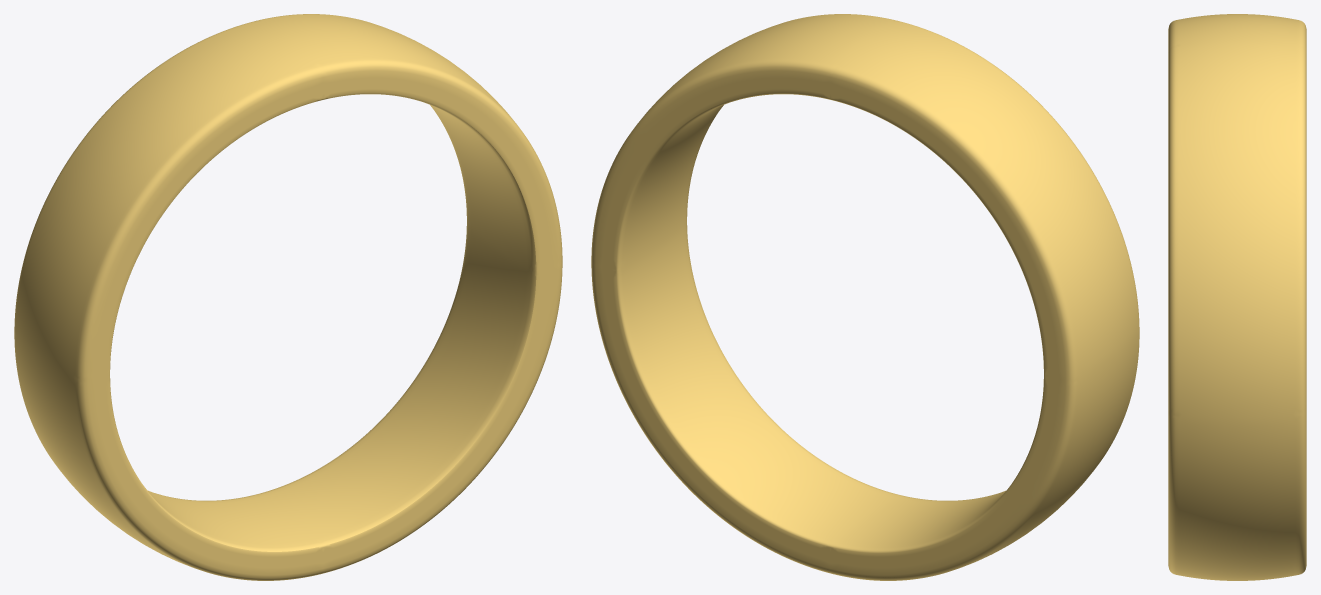
The model's file is ZachNwb_blender.glb.
3 renders of one model, left to right at view 1: azimuth 30°, elevation 25°; view 2: azimuth 150°, elevation 25°; view 3: azimuth 270°, elevation 25°, orthographic.
Parts seen in each view (by area): view 1: mans YG WB FOR 3D model; view 2: mans YG WB FOR 3D model; view 3: mans YG WB FOR 3D model.
Boxes of the visible parts, x1,y1,x2,y2 form: mans YG WB FOR 3D model: (14, 14, 562, 580); mans YG WB FOR 3D model: (591, 14, 1139, 580); mans YG WB FOR 3D model: (1168, 14, 1306, 580).
Size of the model in its own units: 25.04 by 25.04 by 6.1.
